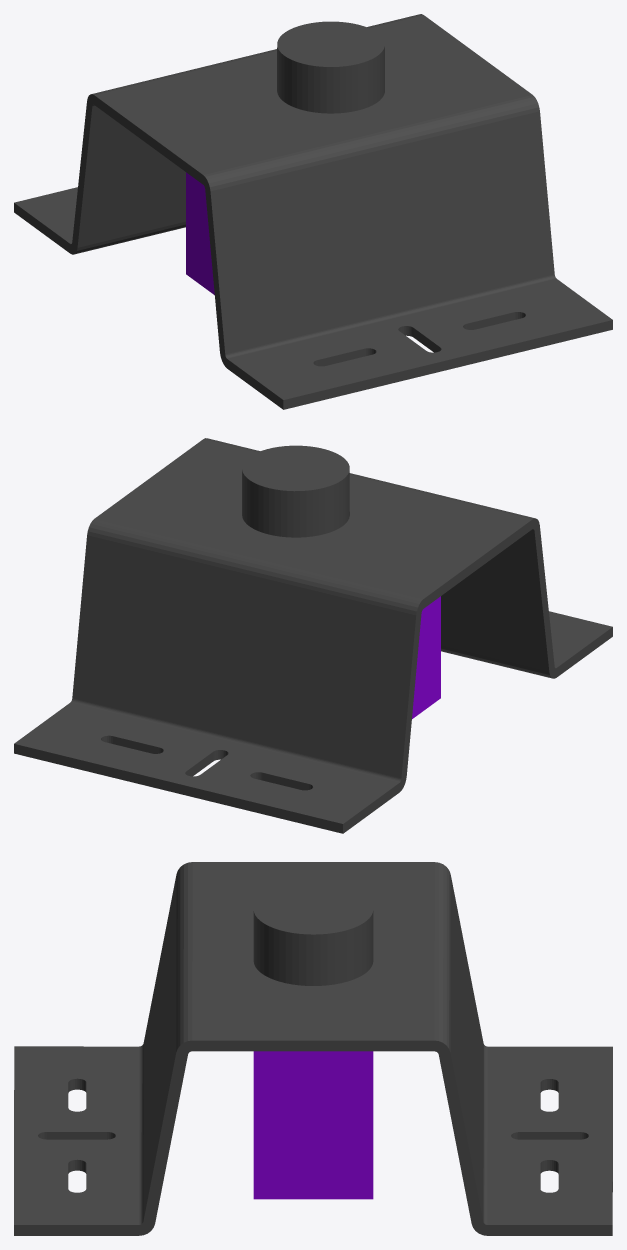
File: PTZ_base_link.dae
3 views of the same model, one above another, from view 1: azimuth 30°, elevation 25°; view 2: azimuth 150°, elevation 25°; view 3: azimuth 270°, elevation 25° (orthographic). The views are drawn at different scales.
Visible parts, largest first — view 1: node0; view 2: node0; view 3: node0.
Boxes of the visible parts, box(x1,y1,x2,y2) form: node0: box(14, 14, 612, 409); node0: box(14, 438, 612, 833); node0: box(14, 862, 612, 1235).
Bounding box in the file's own units: 0.0721 × 0.1023 × 0.0465.
